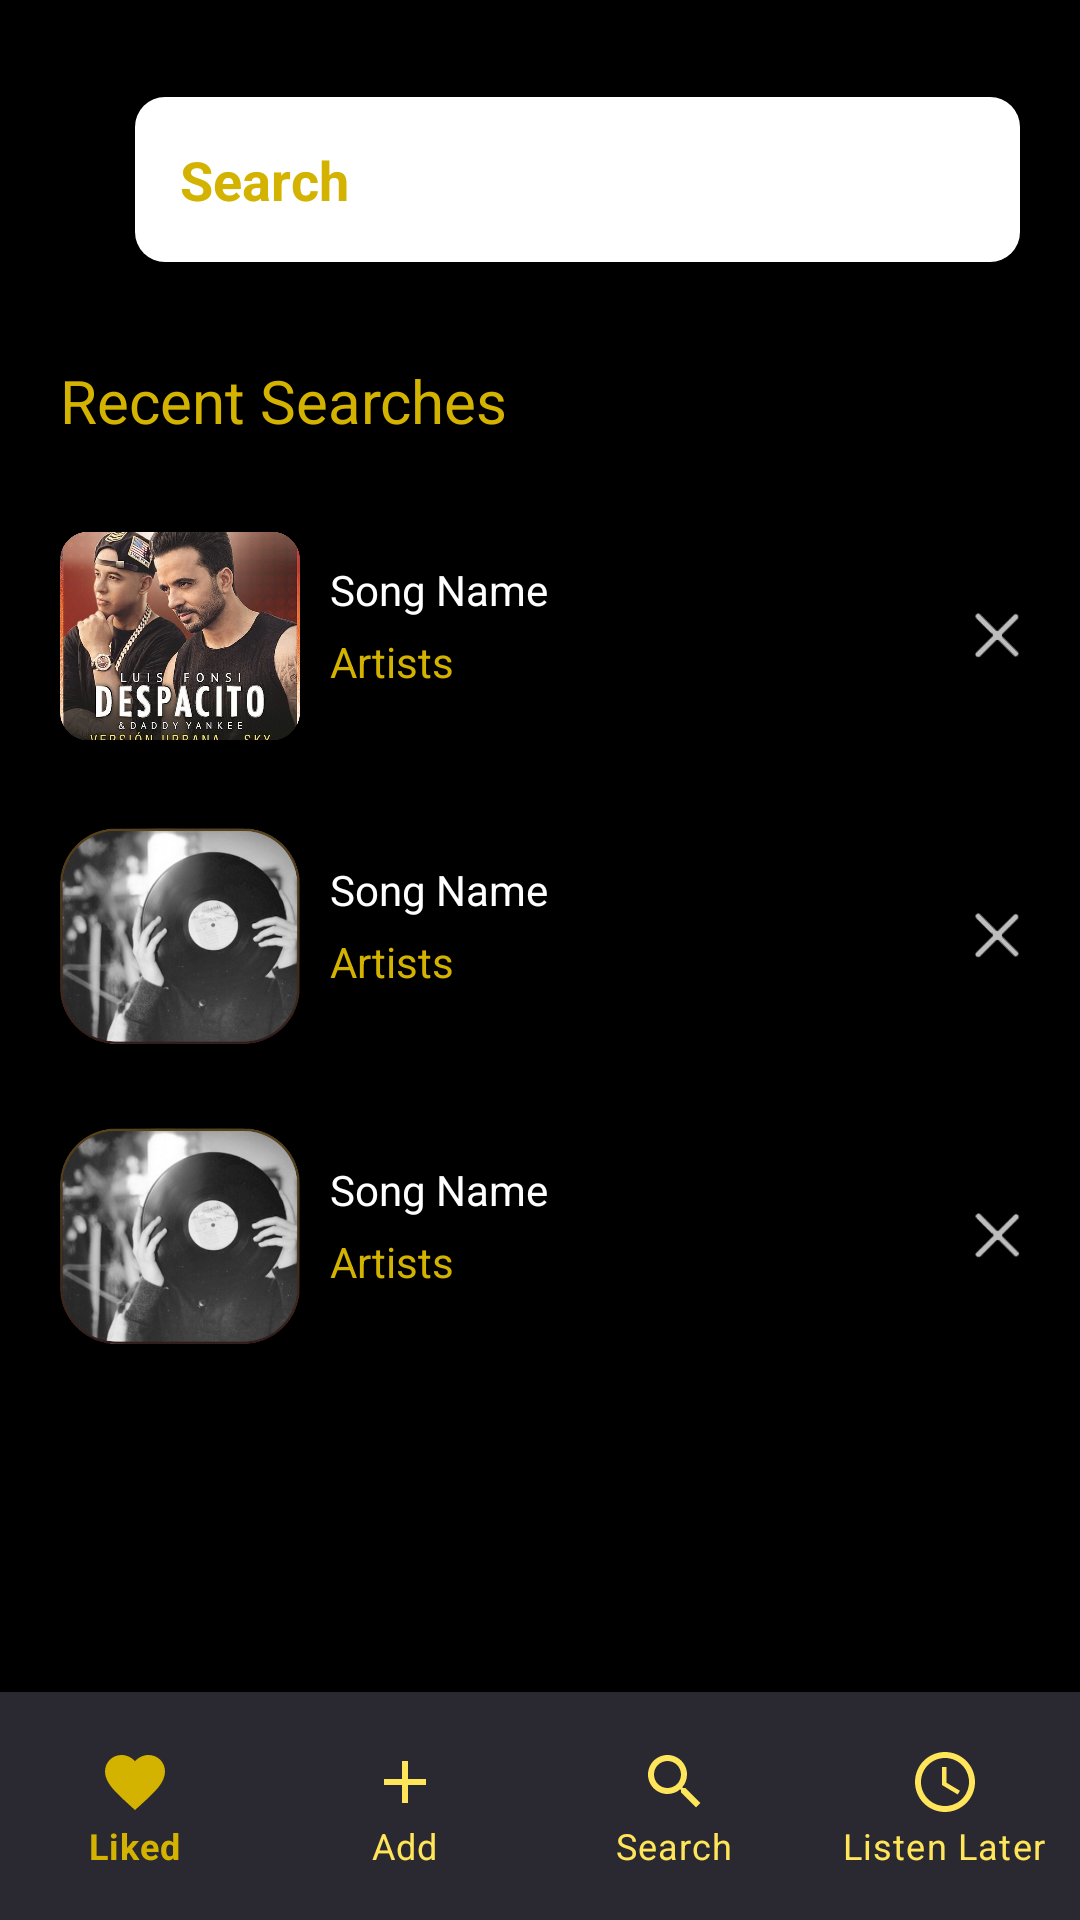

Named icons in this screenshot (1080*1920) and their bounding boxes, (x1, y1, x2, y2):
Artist picture: (60, 532, 300, 740)
Cancel Icon: (975, 613, 1019, 657), (975, 913, 1019, 957), (975, 1213, 1019, 1257)
